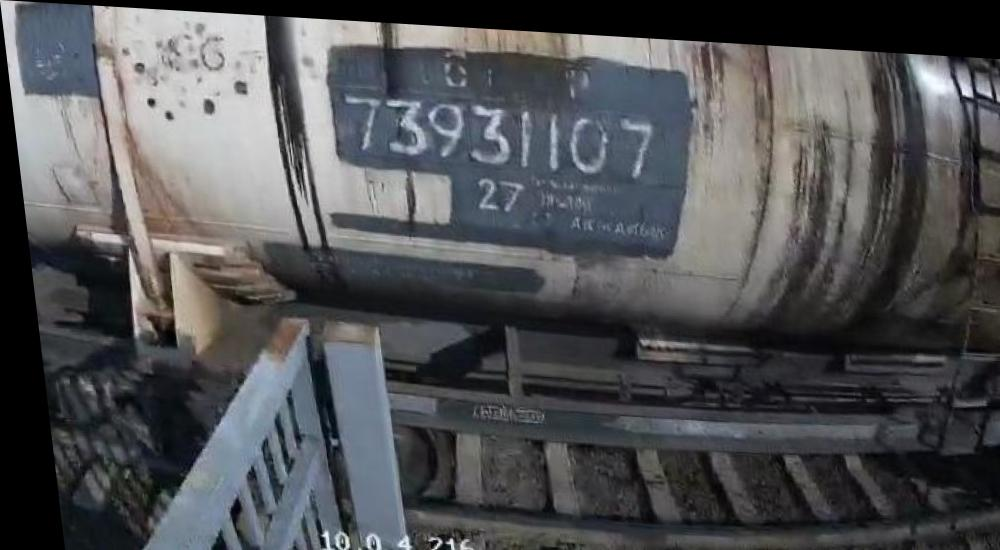Wagon-number: (335, 83, 660, 175)
